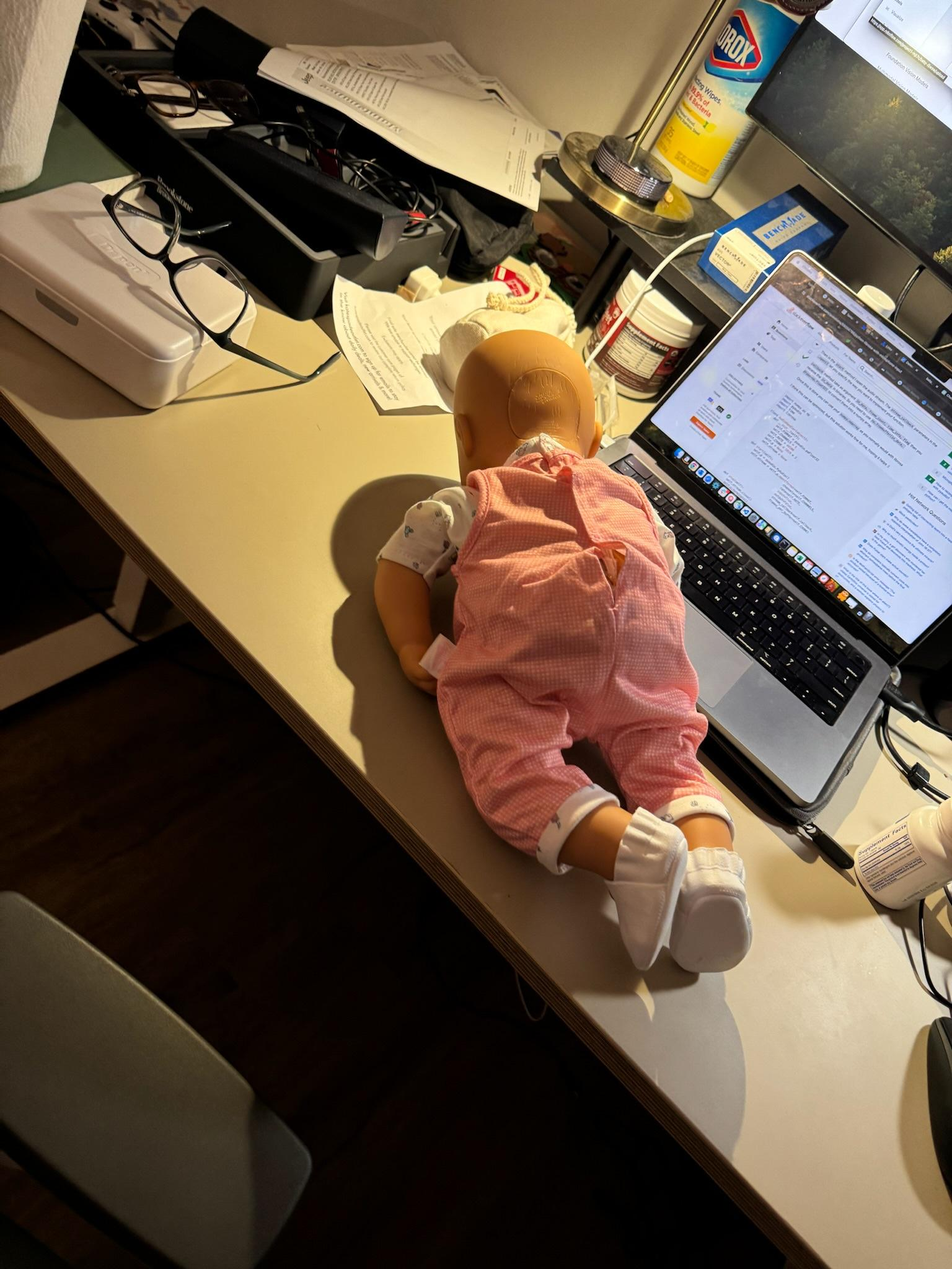baby: (347, 318, 822, 1000)
